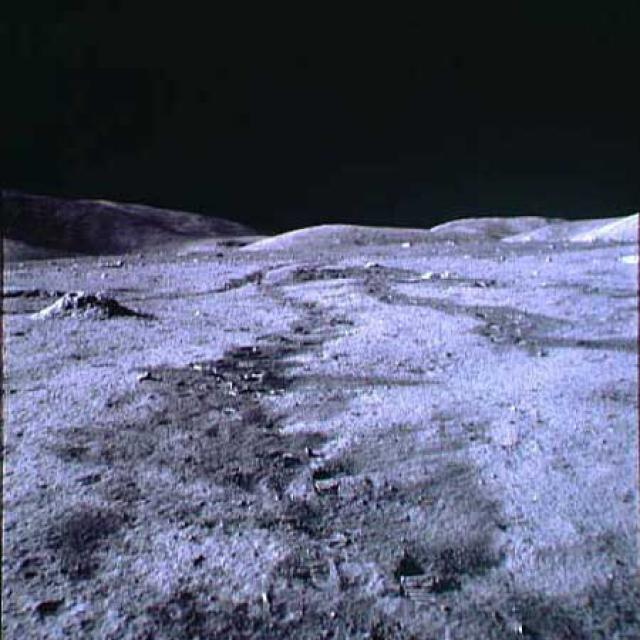crater: (5, 278, 68, 301)
rock: (31, 289, 148, 325)
